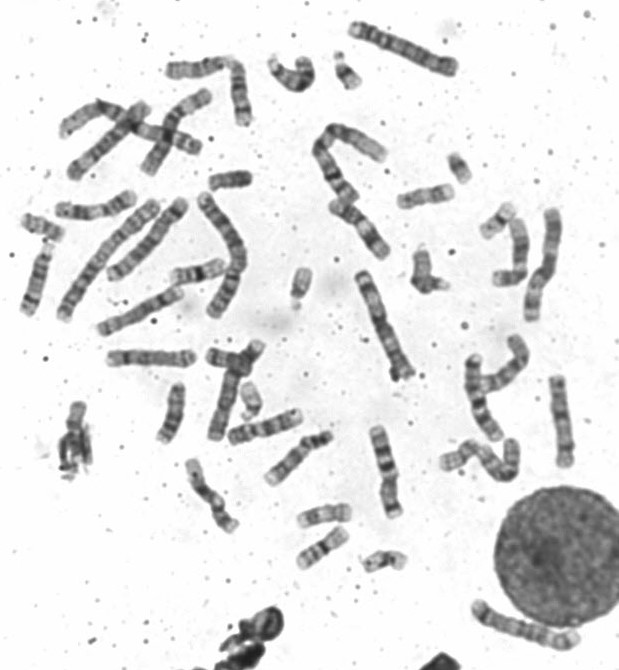chromosomes: (55, 196, 164, 329), (52, 95, 209, 162), (346, 15, 469, 86), (161, 49, 261, 133), (64, 96, 156, 187), (101, 195, 192, 286), (140, 79, 220, 182), (353, 264, 419, 387), (466, 593, 589, 658), (204, 337, 275, 448), (194, 188, 251, 325), (308, 119, 393, 210), (517, 205, 571, 326), (94, 284, 190, 344), (258, 422, 338, 494), (180, 452, 243, 538), (323, 194, 400, 264), (359, 415, 406, 524), (456, 347, 507, 447), (225, 399, 312, 450), (474, 328, 534, 397), (546, 367, 583, 472), (487, 215, 533, 296), (49, 186, 144, 224), (478, 429, 530, 496), (19, 240, 59, 326), (262, 44, 319, 100), (101, 346, 205, 376), (151, 378, 193, 451), (293, 523, 352, 574), (54, 399, 96, 466), (283, 258, 322, 326), (164, 253, 233, 290), (395, 181, 462, 216), (295, 498, 359, 534), (17, 205, 72, 246), (201, 339, 258, 378), (476, 195, 523, 241), (407, 235, 438, 303), (330, 44, 369, 96), (433, 435, 483, 475), (233, 377, 270, 431), (356, 546, 413, 579), (203, 164, 260, 195), (440, 143, 477, 187), (407, 274, 456, 294)
